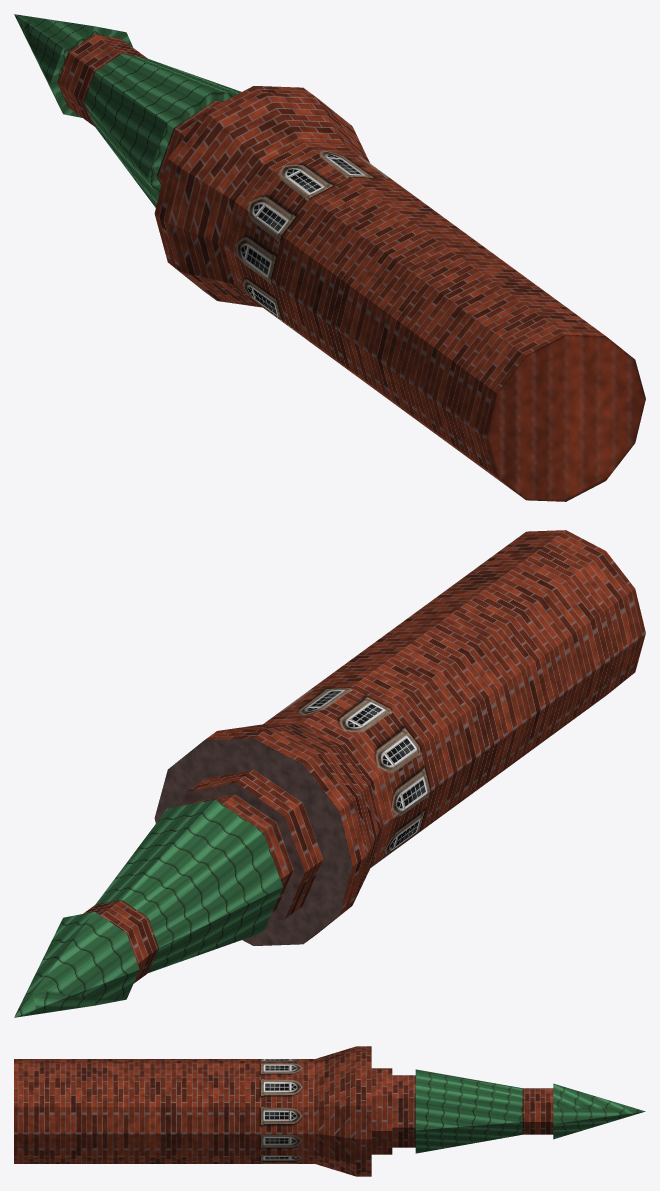
Rendered from EdgeTower.fbx.
3 renders of one model, top to bottom at view 1: azimuth 30°, elevation 25°; view 2: azimuth 150°, elevation 25°; view 3: azimuth 270°, elevation 25°, orthographic. The views are drawn at different scales.
Parts seen in each view (by area): view 1: EdgeTower; view 2: EdgeTower; view 3: EdgeTower.
Boxes of the visible parts, box(x1,y1,x2,y2) form: EdgeTower: box(14, 14, 645, 501); EdgeTower: box(14, 530, 645, 1017); EdgeTower: box(14, 1046, 645, 1176).
Bounding box in the file's own units: 1018 × 1018 × 4910.
